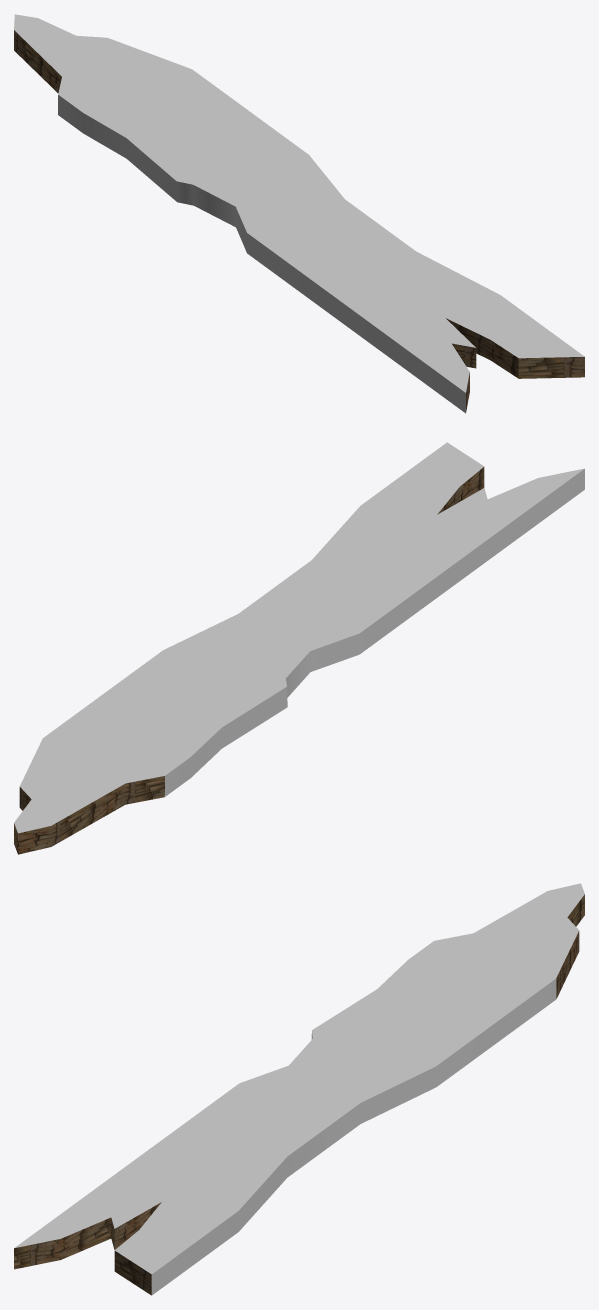
The model's file is lower_city_wood_plank_10.fbx.
3 views of the same model, one above another, from view 1: azimuth 30°, elevation 25°; view 2: azimuth 150°, elevation 25°; view 3: azimuth 330°, elevation 25° (orthographic). The views are drawn at different scales.
Parts seen in each view (by area): view 1: lower_city_wood_plank_10; view 2: lower_city_wood_plank_10; view 3: lower_city_wood_plank_10.
Boxes of the visible parts, box(x1,y1,x2,y2) form: lower_city_wood_plank_10: box(14, 14, 584, 413); lower_city_wood_plank_10: box(14, 442, 584, 854); lower_city_wood_plank_10: box(14, 883, 584, 1295).
Size of the model in its own units: 0.4967 by 0.0772 by 3.41.
